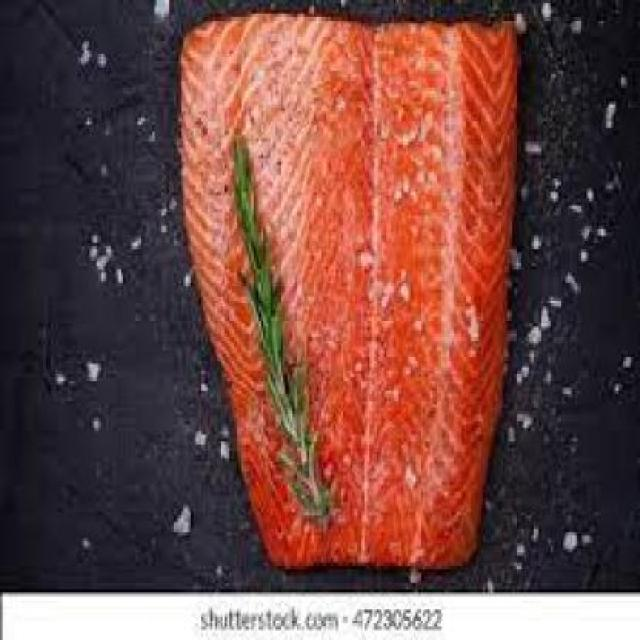salmon: (165, 14, 556, 576)
